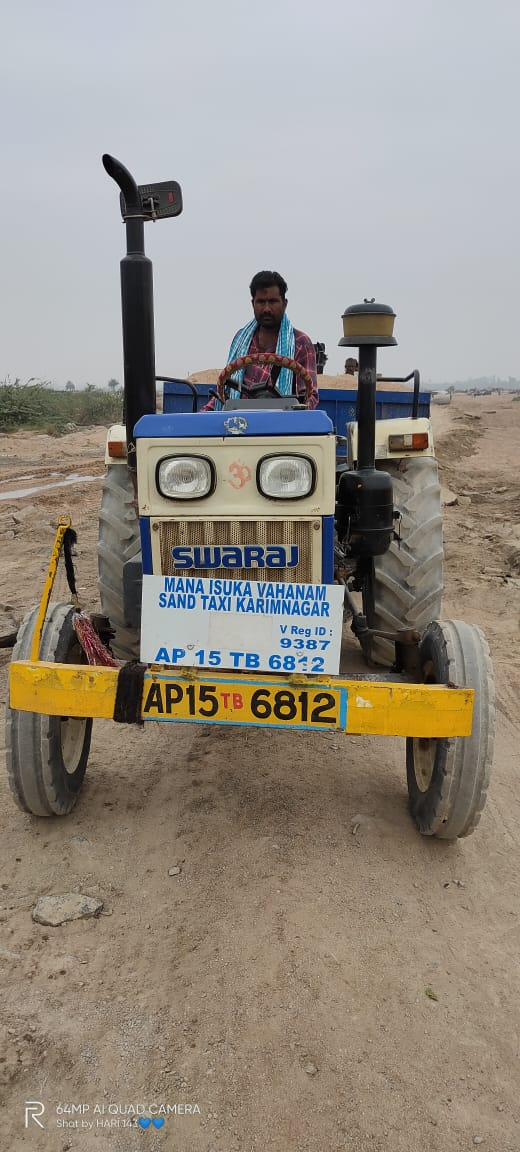license_plate: (139, 670, 350, 746)
